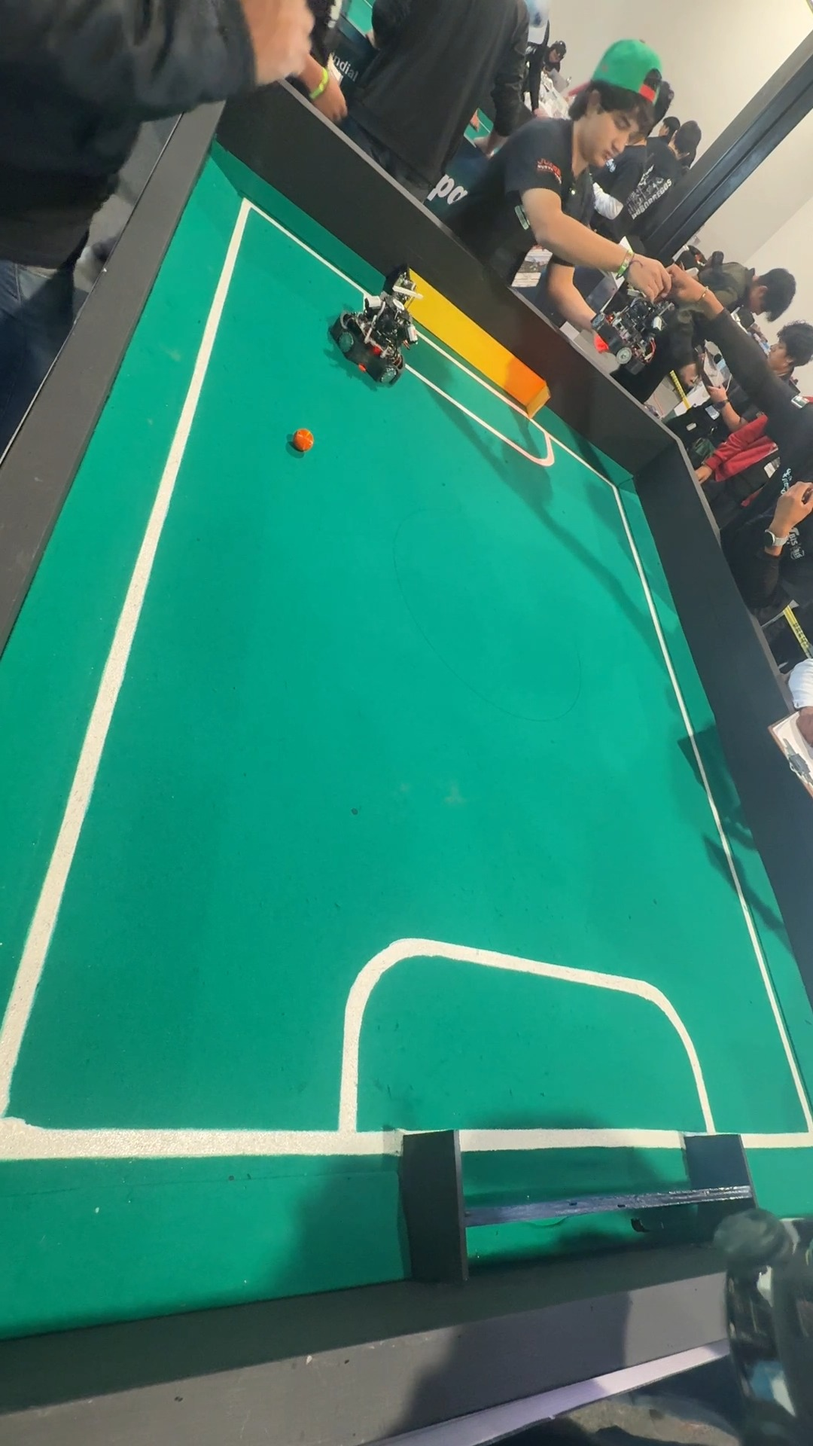Robot: (321, 261, 423, 400)
pelota: (290, 429, 317, 455)
